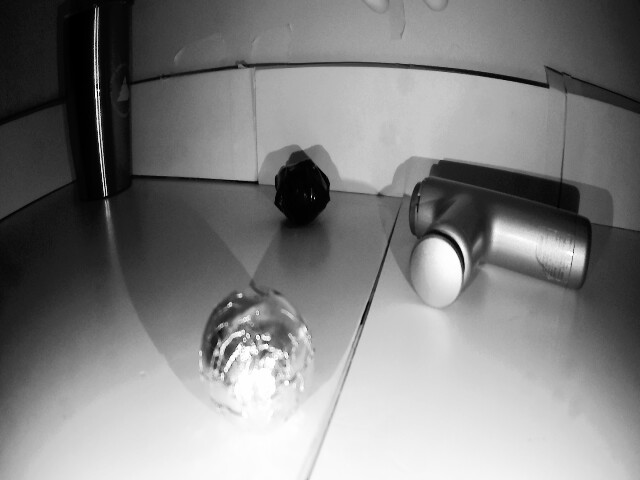black: (268, 156, 329, 232)
silver: (192, 281, 323, 431)
